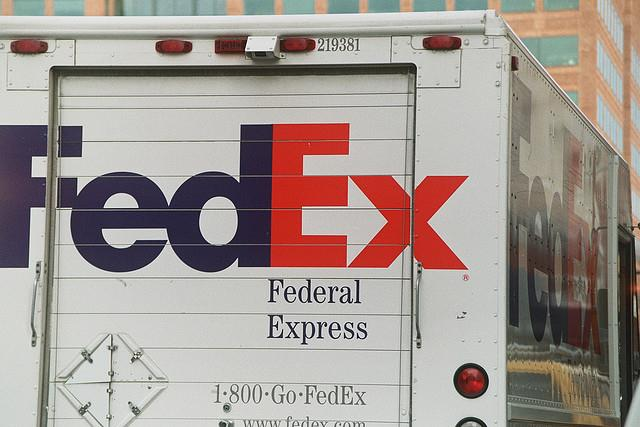FedEX: (2, 115, 472, 280)
